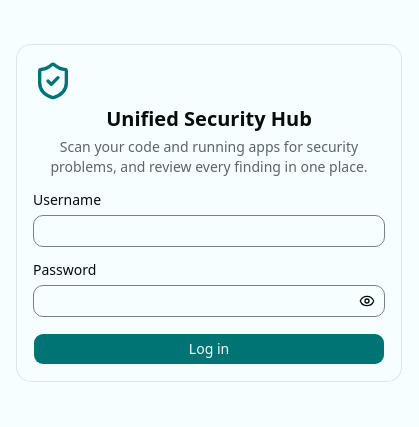
Test: LoginScreen › shows the message for other failures, such as being offline
The image size is (419, 427).
Type "demo" into the field labelled "Username" at (209,231), box left=33, top=215, right=385, bottom=247
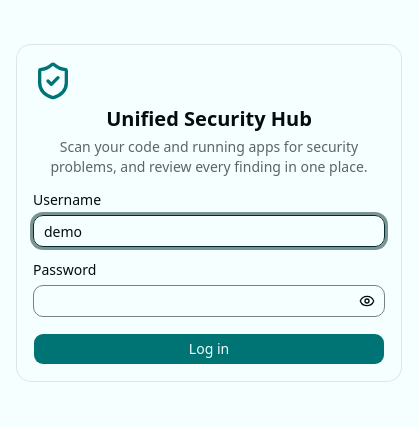
Type "demo123" into the password field labelled "Password" at (209,301), box left=33, top=285, right=385, bottom=317
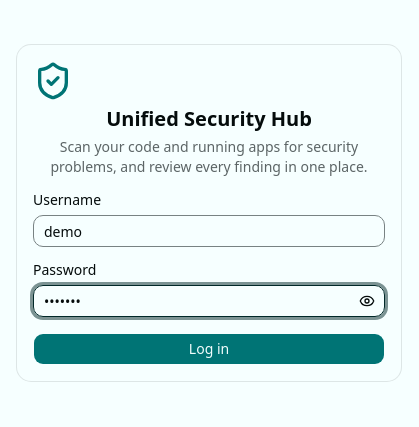
Click the button "Log in" at (209,349), box left=33, top=333, right=385, bottom=365
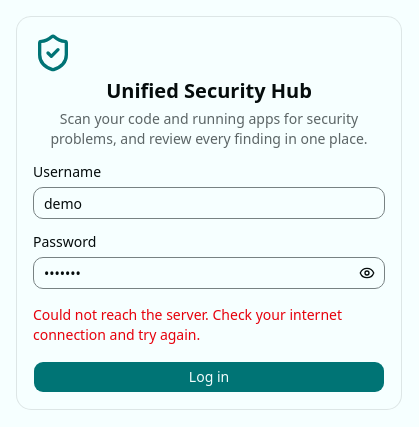
Now the message shows "Could not reach the server", box left=33, top=305, right=342, bottom=344
